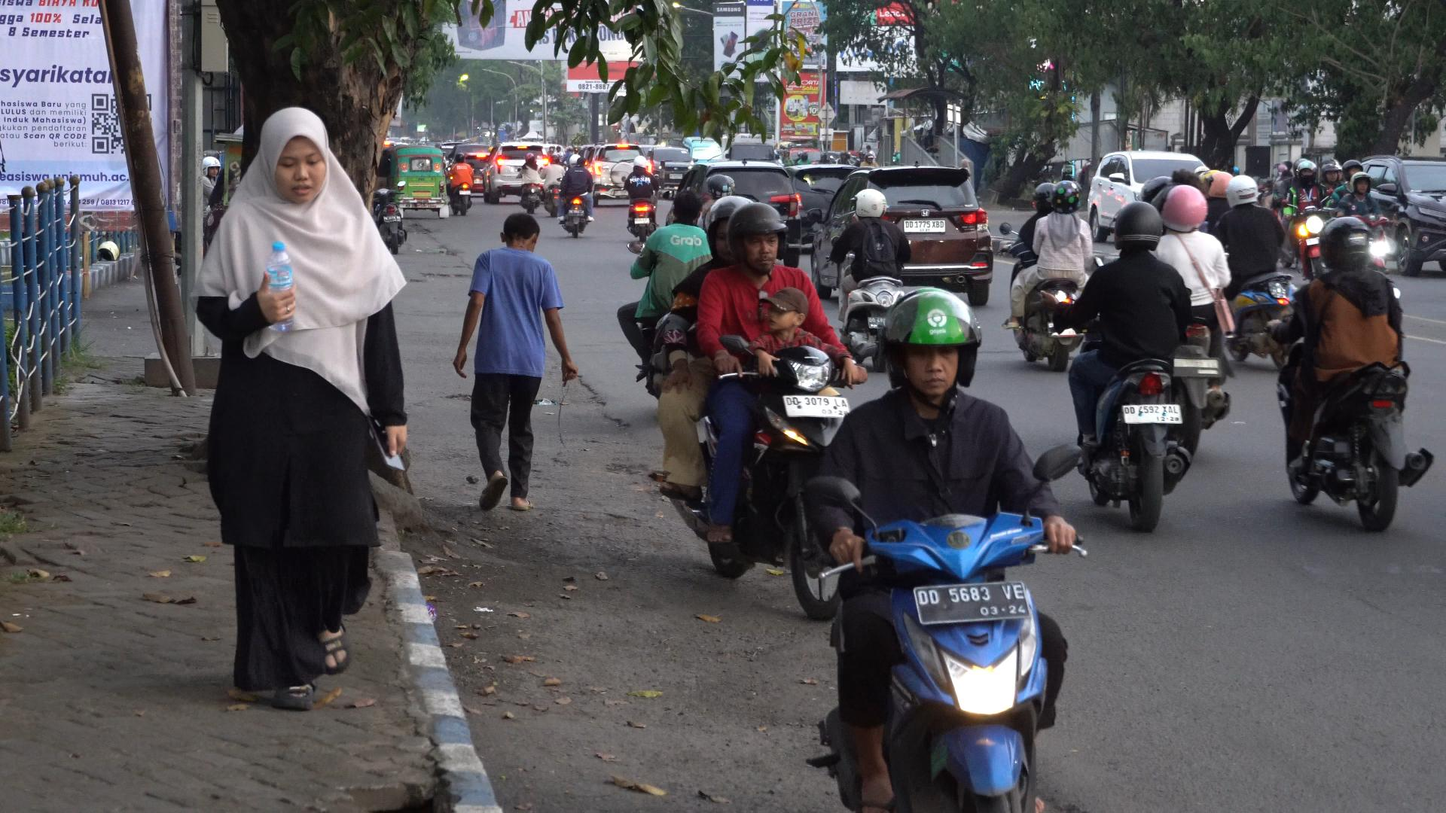number-plate: (910, 582, 1033, 624), (782, 394, 853, 419)
